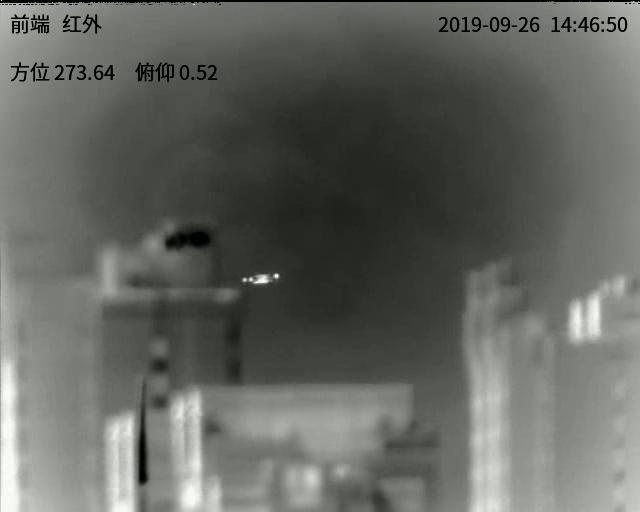DRONE: (241, 272, 281, 285)
